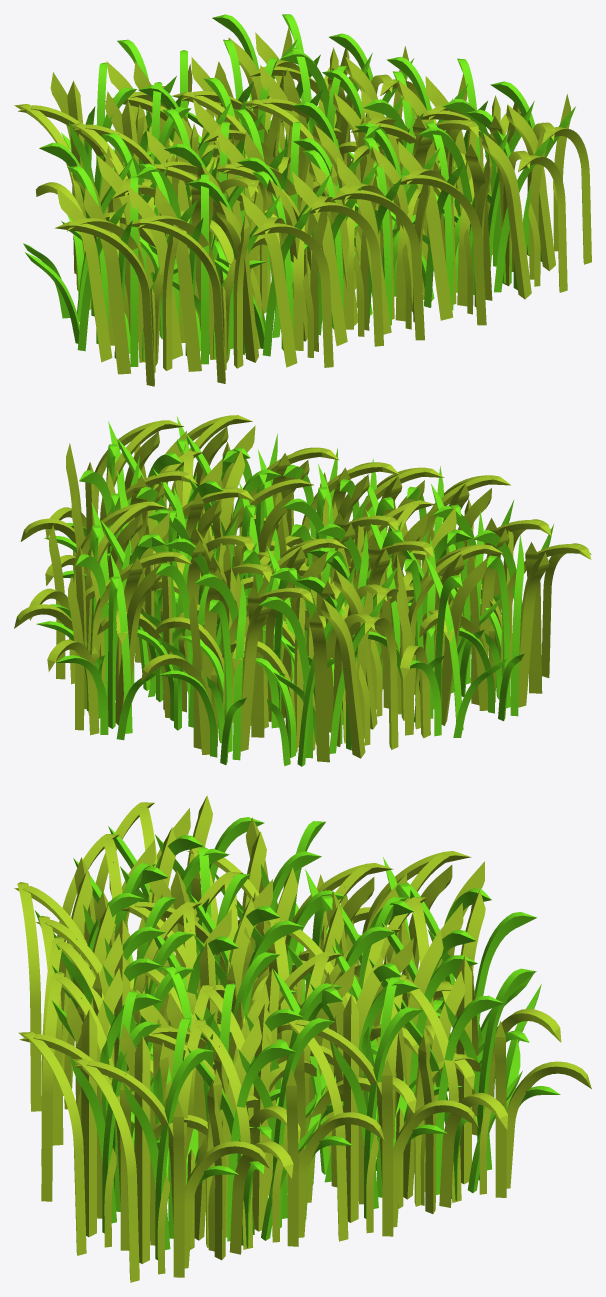
The model's file is grass3.FBX.
The picture shows the model from 3 angles, top to bottom: view 1: azimuth 30°, elevation 25°; view 2: azimuth 150°, elevation 25°; view 3: azimuth 270°, elevation 25°; orthographic projection. The views are drawn at different scales.
Parts seen in each view (by area): view 1: Bundle 3; view 2: Bundle 3; view 3: Bundle 3.
Part boxes in pixels (x1,y1,x2,y2): Bundle 3: (14,14,591,386); Bundle 3: (14,415,591,766); Bundle 3: (14,795,591,1282).
Bounding box in the file's own units: 192 × 60.42 × 156.
